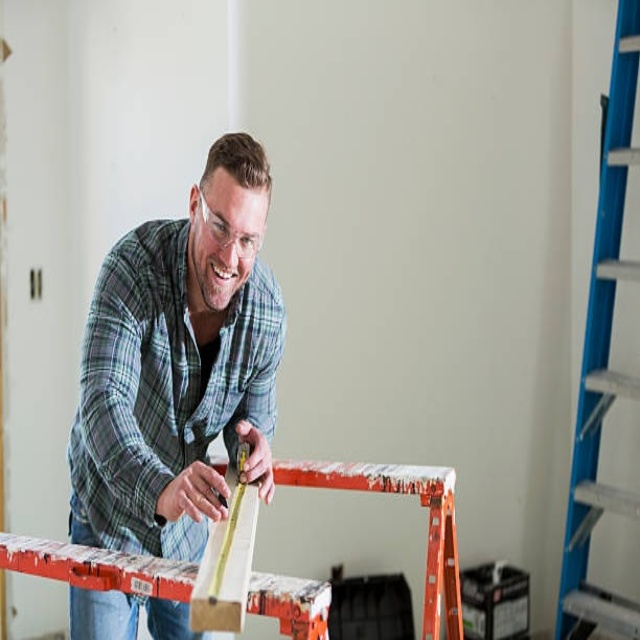Gafas: (199, 191, 265, 260)
Sin_guantes: (163, 460, 233, 525), (232, 414, 277, 511)
Sin_mascara: (204, 256, 237, 301)
